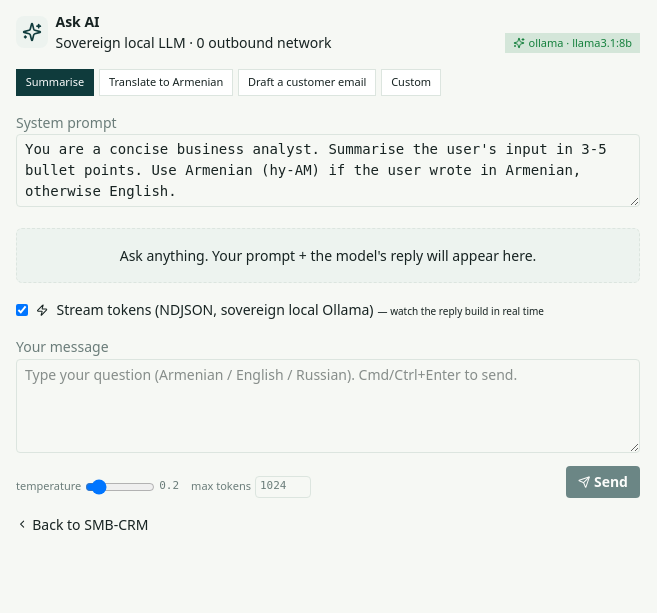
Ask AI — input + send › renders the AI reply in the history on a successful response
Click the checkbox with test id "smb-crm-ai-streaming-checkbox" at (22, 310), box [16, 304, 28, 316]
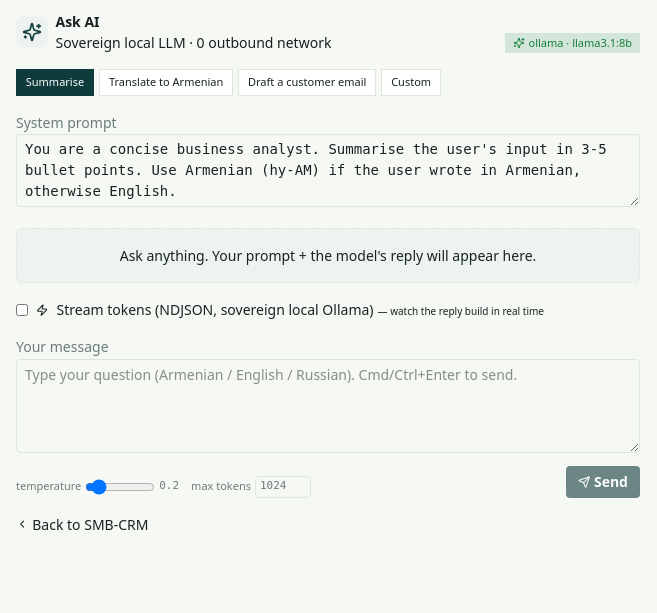
Replace the text in the text box with test id "smb-crm-ai-user-input" with "hi" at (328, 406), box [16, 359, 640, 453]
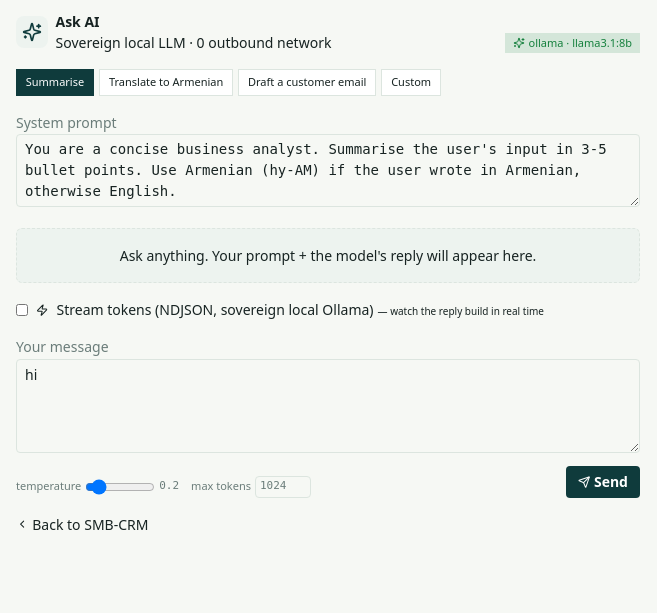
Click the button with test id "smb-crm-ai-send" at (603, 482), box [566, 466, 640, 498]
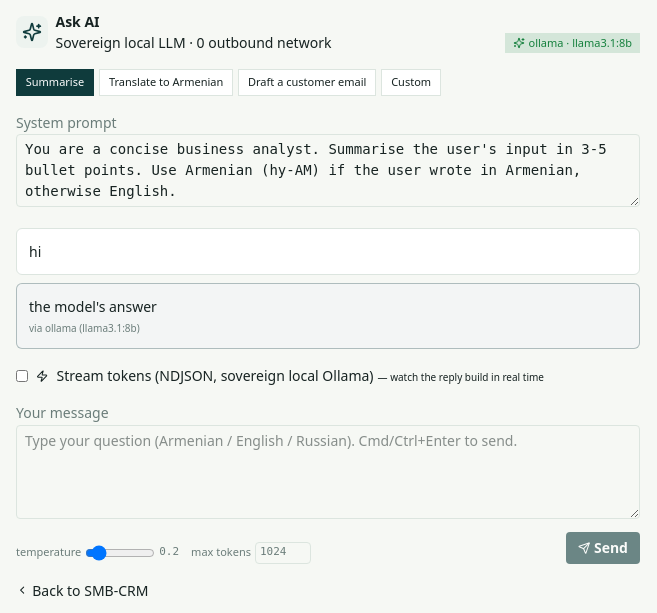
Check: the number of elements with test id "smb-crm-ai-history-user" is 1, box [29, 242, 41, 261]
Check: the text with test id "smb-crm-ai-history-ai" reads "the model's answer", box [29, 297, 157, 316]
Check: the list with test id "smb-crm-ai-history" shows "ollama", box [45, 321, 77, 335]
